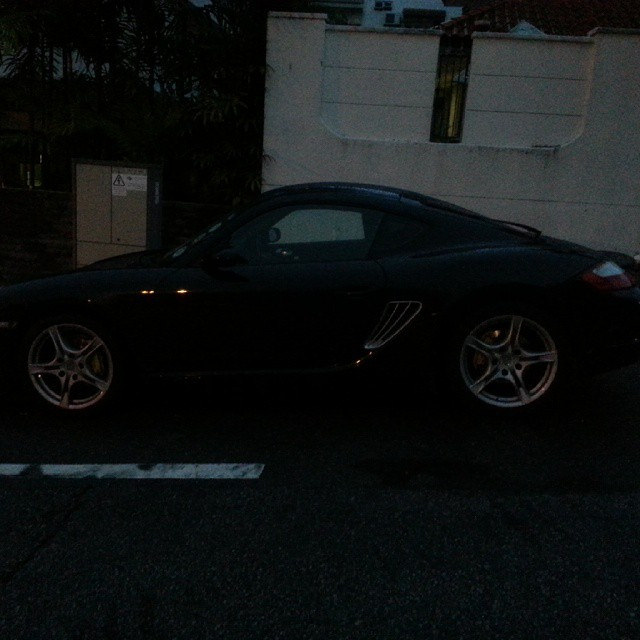car: (15, 174, 637, 443)
